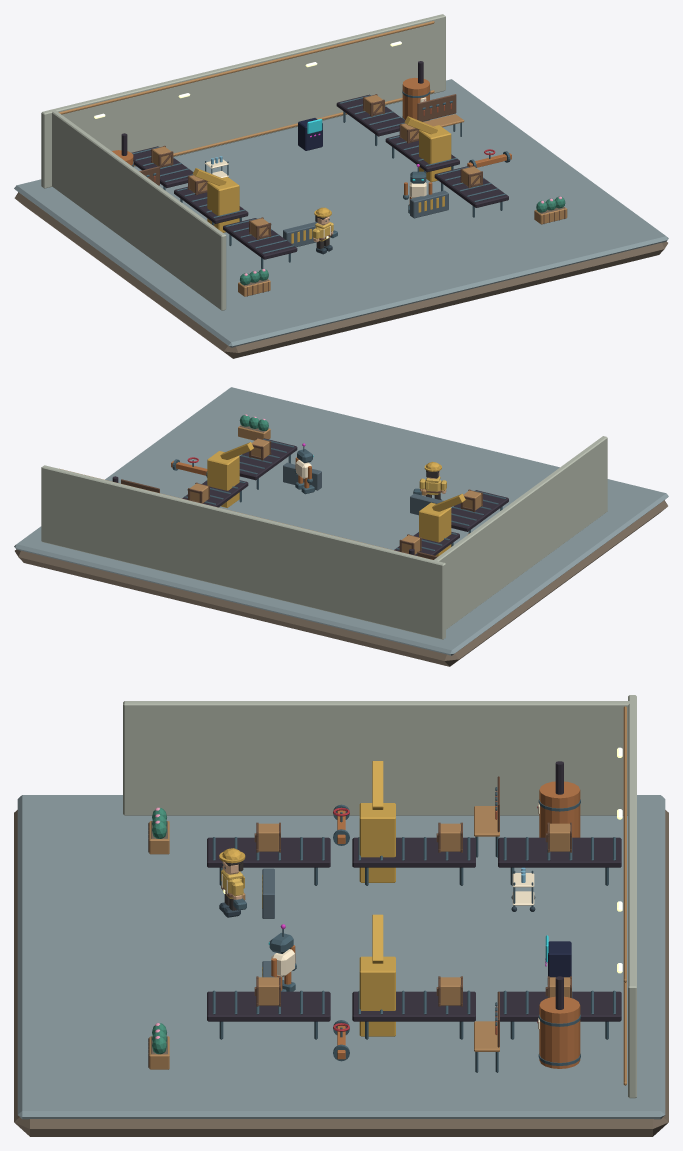
Rendered from world-factory.glb.
3 views of the same model, one above another, from view 1: azimuth 30°, elevation 25°; view 2: azimuth 150°, elevation 25°; view 3: azimuth 270°, elevation 25° (orthographic). The views are drawn at different scales.
Parts seen in each view (by area): view 1: terrain-top, rear-wall, side-wall, terrain-stratum, interior-trim.001, robot-base.001, conveyor-belt.004, conveyor-belt.001, robot-base, conveyor-belt.006, conveyor-belt.003, conveyor-belt.002 (+6 smaller); view 2: terrain-top, rear-wall, side-wall, terrain-stratum, robot-base.001, robot-base, conveyor-belt.004, conveyor-belt.001, conveyor-belt.005, barrier.002, conveyor-belt.002; view 3: terrain-top, side-wall, terrain-stratum, rear-wall, conveyor-belt.004, conveyor-belt.003, conveyor-belt.001, conveyor-belt.002, conveyor-belt.005, boiler.002, robot-base.001, robot-base (+7 smaller).
Part boxes in pixels (x1,y1,x2,y2): terrain-top: (14,79,668,347); rear-wall: (41,14,445,188); side-wall: (52,110,226,310); terrain-stratum: (14,192,667,358); interior-trim.001: (59,21,434,114); robot-base.001: (419,125,451,182); conveyor-belt.004: (434,166,508,207); conveyor-belt.001: (223,218,297,259); robot-base: (207,176,239,232); conveyor-belt.006: (336,94,405,136); conveyor-belt.003: (131,146,193,188); conveyor-belt.002: (174,186,248,223); terrain-top: (14,387,668,655); rear-wall: (41,465,445,639); side-wall: (433,436,607,629); terrain-stratum: (15,500,667,666); robot-base.001: (207,451,239,507); robot-base: (419,502,451,556); conveyor-belt.004: (239,438,297,480); conveyor-belt.001: (451,490,508,531); conveyor-belt.005: (182,480,248,507); barrier.002: (283,462,321,490); conveyor-belt.002: (394,532,459,555); terrain-top: (17,795,665,1119); side-wall: (123,701,630,815); terrain-stratum: (14,810,668,1136); rear-wall: (628,695,636,1098); conveyor-belt.004: (207,991,330,1021); conveyor-belt.003: (498,837,621,867); conveyor-belt.001: (207,837,330,867); conveyor-belt.002: (352,837,475,867); conveyor-belt.005: (352,991,475,1021); boiler.002: (539,996,580,1068); robot-base.001: (359,956,395,1036); robot-base: (359,803,395,882).
Size of the model in its own units: 21 by 4.29 by 18.
